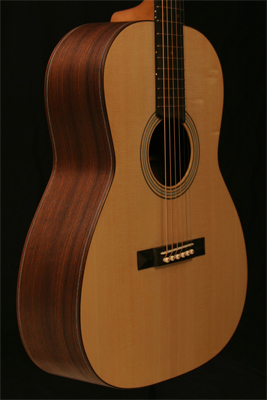guitar: (14, 1, 251, 390)
